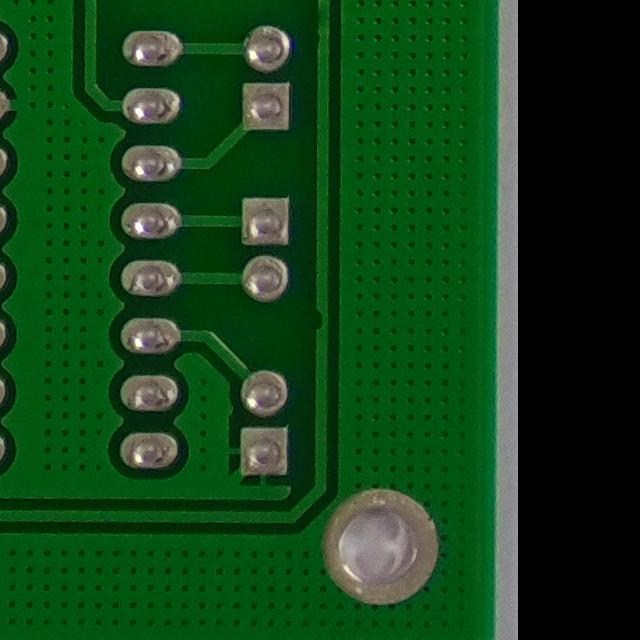mouse_bite: (303, 299, 338, 342)
